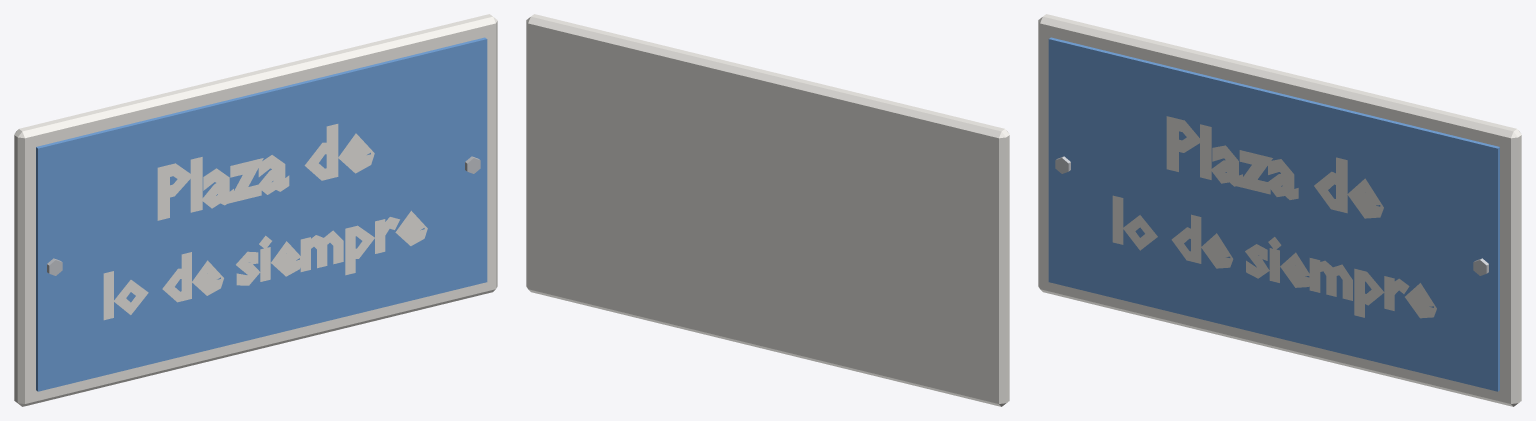
The model's file is prop_street_sign_01.glb.
3 renders of one model, left to right at view 1: azimuth 30°, elevation 25°; view 2: azimuth 150°, elevation 25°; view 3: azimuth 330°, elevation 25°, orthographic.
Parts seen in each view (by area): view 1: prop_street_sign_01_body; view 2: prop_street_sign_01_body; view 3: prop_street_sign_01_body.
Part boxes in pixels (x1,y1,x2,y2): prop_street_sign_01_body: [14, 14, 497, 406]; prop_street_sign_01_body: [526, 14, 1009, 406]; prop_street_sign_01_body: [1038, 14, 1521, 406].
Size of the model in its own units: 0.62 by 0.34 by 0.03.
